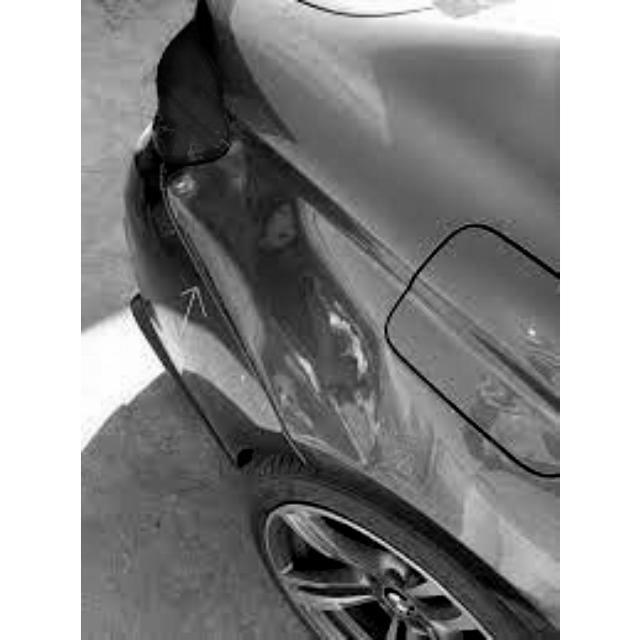quaterpanel-dent: (241, 203, 510, 610)
